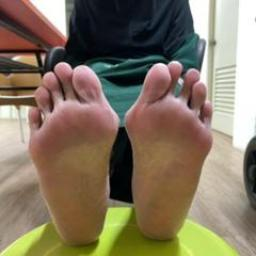Plantar View -Both Feet-: (10, 49, 228, 251)
